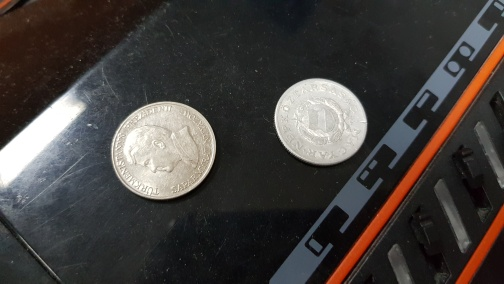coin: (110, 101, 217, 201), (274, 77, 368, 166)
